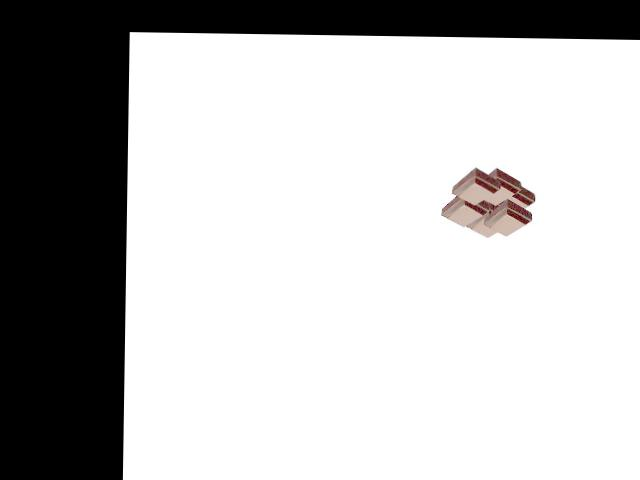chocolate: (441, 170, 538, 241)
